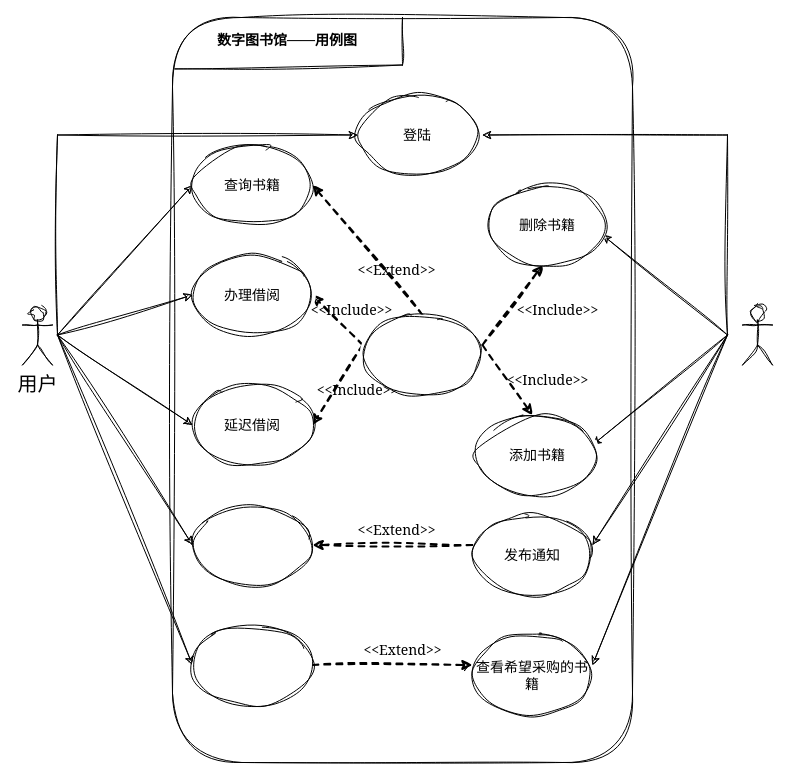
The diagram is 804 pixels wide and 780 high, and some of its shapes have lost their labels. The box of each missing label's shape, as (x1, y1, x2, y2) in pixels:
提出希望采购的书籍: (192, 624, 312, 705)
更新书籍信息: (362, 314, 482, 395)
查看通知: (192, 504, 312, 585)
管理员: (742, 304, 772, 365)
